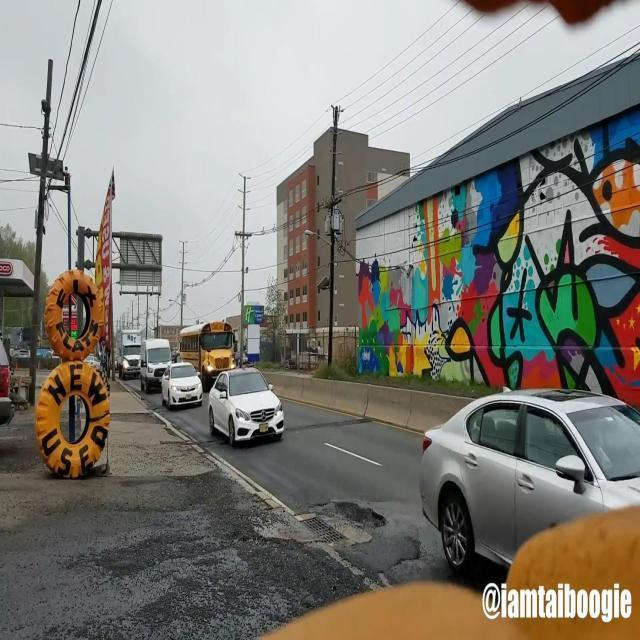Pothole: (239, 483, 404, 569)
